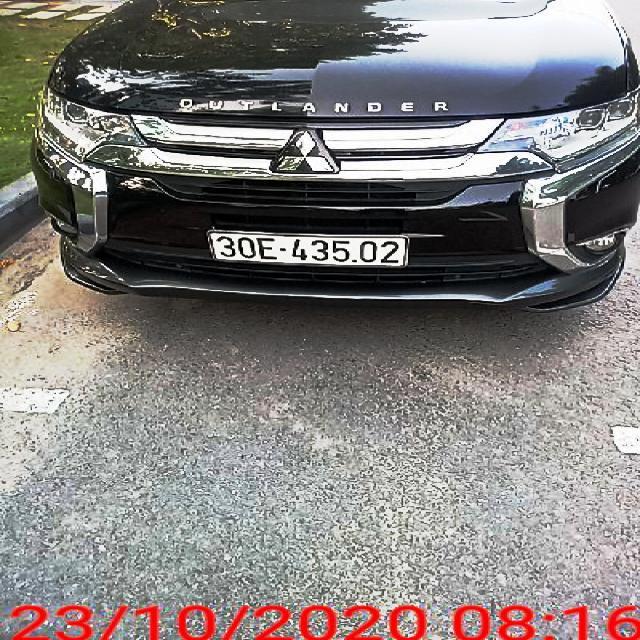license_plate: (212, 234, 408, 266)
